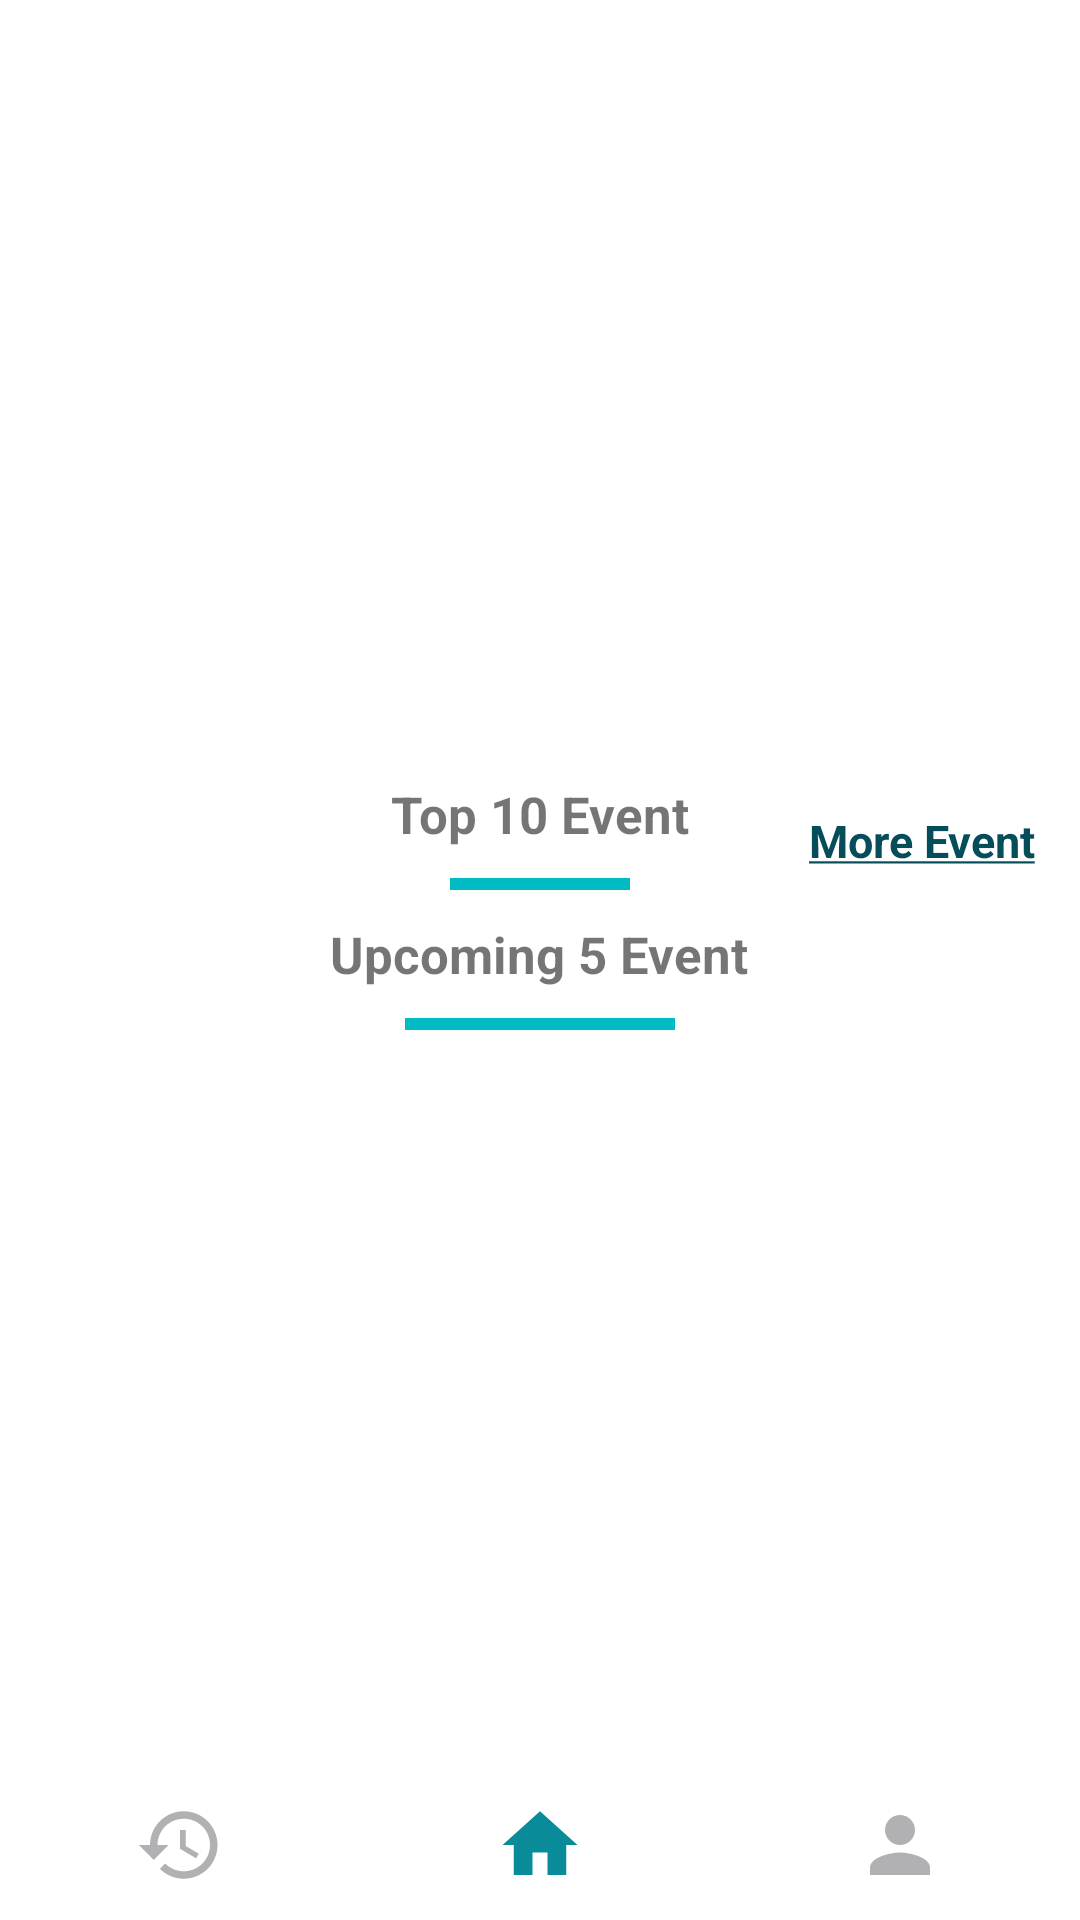

Icon click points for this 1080px x 1920px phone screenshot, format (x,y):
history: (178,1845)
home: (540,1843)
person: (900,1845)
